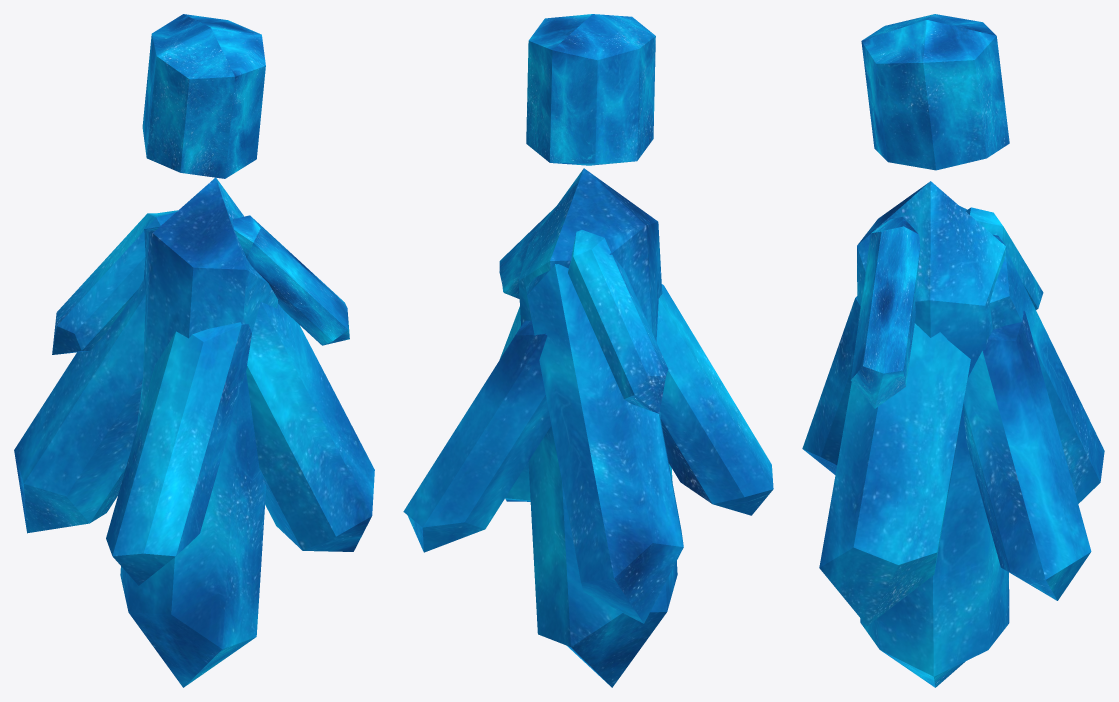
File: BodyMesh.fbx
3 views of the same model, side by side, from view 1: azimuth 30°, elevation 25°; view 2: azimuth 150°, elevation 25°; view 3: azimuth 270°, elevation 25° (orthographic). The views are drawn at different scales.
Parts seen in each view (by area): view 1: Cube_Baked, Cube.001_Baked; view 2: Cube_Baked, Cube.001_Baked; view 3: Cube_Baked, Cube.001_Baked.
Part boxes in pixels (box(x1,y1,x2,y2)): Cube_Baked: box(14, 177, 374, 687); Cube.001_Baked: box(142, 14, 265, 178); Cube_Baked: box(403, 168, 773, 687); Cube.001_Baked: box(526, 14, 655, 165); Cube_Baked: box(802, 181, 1104, 687); Cube.001_Baked: box(861, 14, 1009, 170).
Bounding box in the file's own units: 443 × 1017 × 410.
2 materials, 2 textured.
